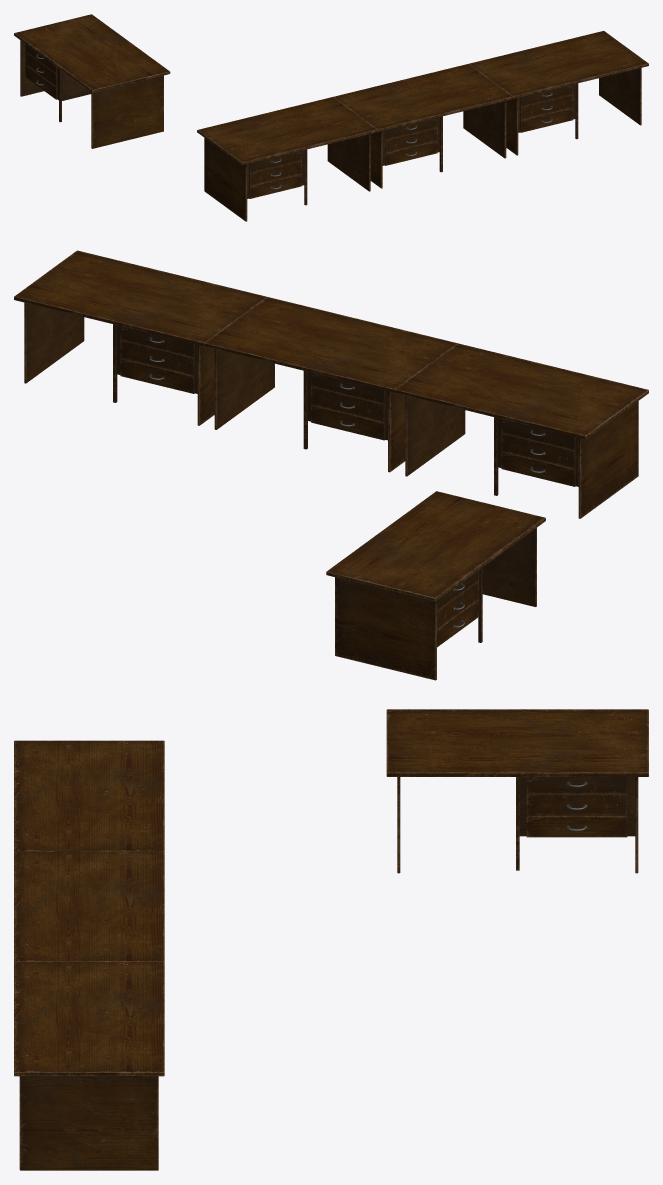
3 views of the same model, one above another, from view 1: azimuth 30°, elevation 25°; view 2: azimuth 150°, elevation 25°; view 3: azimuth 270°, elevation 25° (orthographic). The views are drawn at different scales.
Visible parts, largest first — view 1: All, Office_desk_in_the_middle_of_the_hall; view 2: All, Office_desk_in_the_middle_of_the_hall; view 3: All, Office_desk_in_the_middle_of_the_hall.
Part boxes in pixels (box(x1,y1,x2,y2)): All: box(197, 31, 648, 221); Office_desk_in_the_middle_of_the_hall: box(14, 14, 170, 148); All: box(14, 250, 648, 518); Office_desk_in_the_middle_of_the_hall: box(326, 491, 545, 680); All: box(14, 740, 164, 1170); Office_desk_in_the_middle_of_the_hall: box(386, 709, 648, 873).
Bounding box in the file's own units: 6.8 × 0.9 × 5.03.
1 material, 1 textured.
